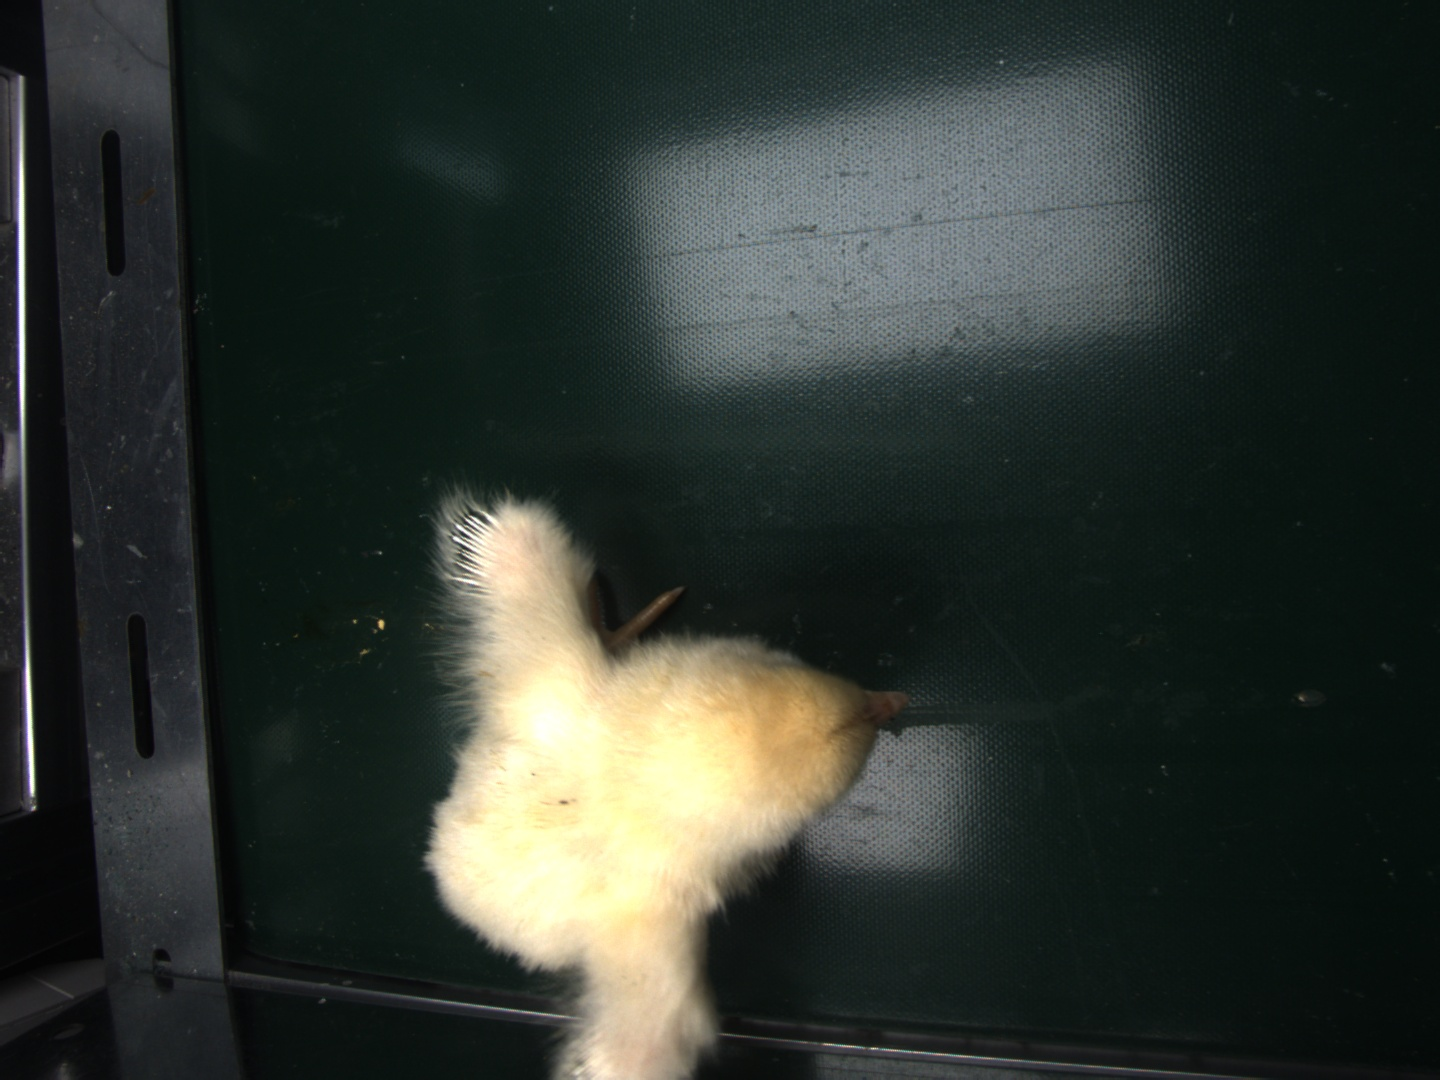male: (450, 506, 502, 589)
